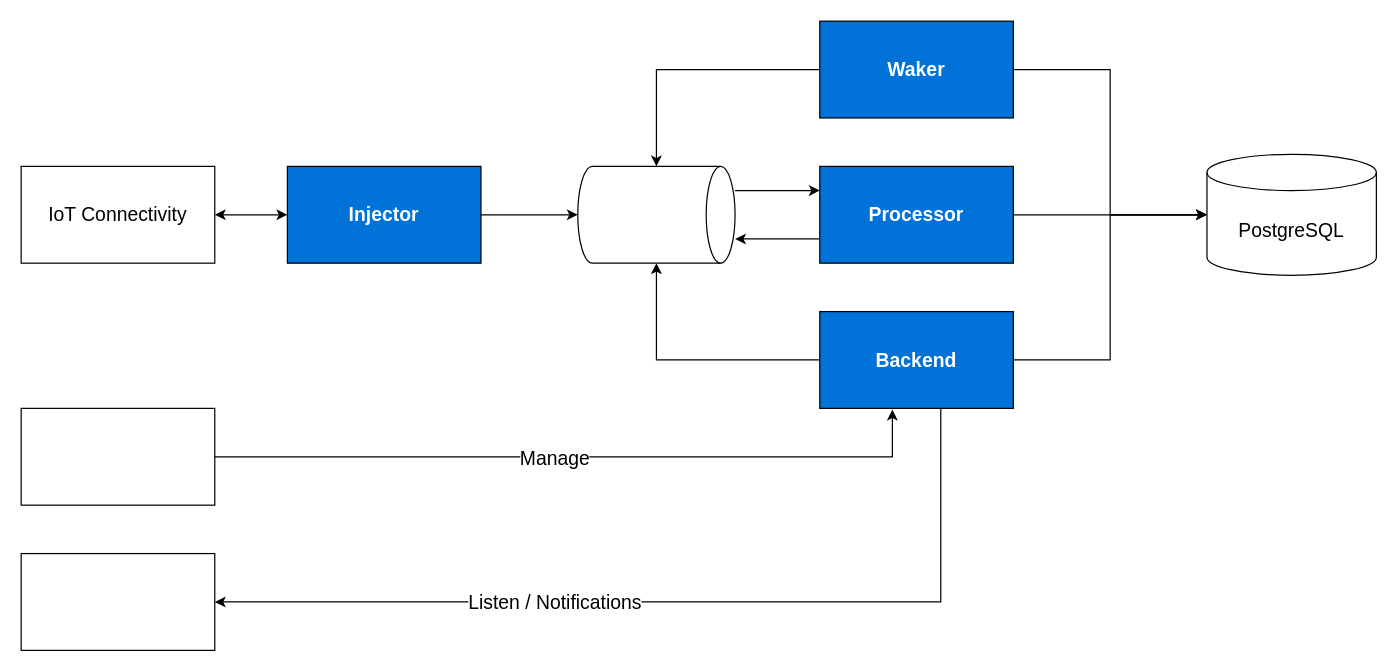
This 1398x672 diagram has some shape labels left out. The shapes that lost their labels are listed below. From the top down, each one's centre as x and y in pixels, then its label:
the point at 656,214: Kafka
the point at 117,456: REST Client (HTTP)
the point at 117,601: WebSocket Client
